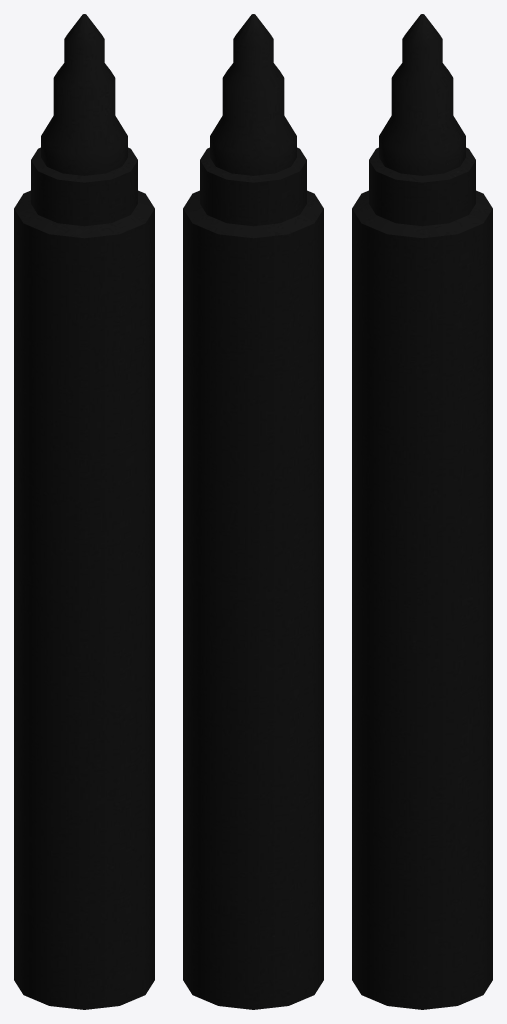
File: black_marker.obj
3 renders of one model, left to right at view 1: azimuth 30°, elevation 25°; view 2: azimuth 150°, elevation 25°; view 3: azimuth 270°, elevation 25°, orthographic.
Visible parts, largest first — view 1: black_marker; view 2: black_marker; view 3: black_marker.
Boxes of the visible parts, x1=… form: black_marker: x1=14, y1=14, x2=154, y2=1009; black_marker: x1=183, y1=14, x2=323, y2=1009; black_marker: x1=352, y1=14, x2=492, y2=1009.
Size of the model in its own units: 0.0132 by 0.1 by 0.0132.
Materials: 2 (2 with a texture image).
